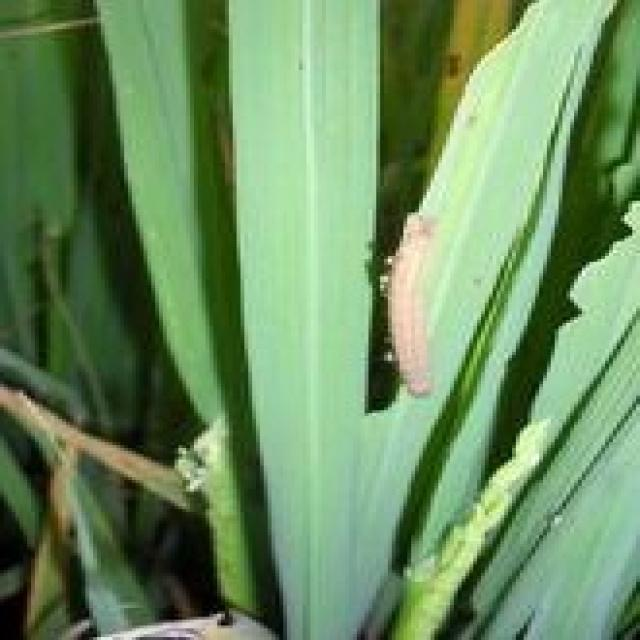army worm: (369, 211, 455, 403)
